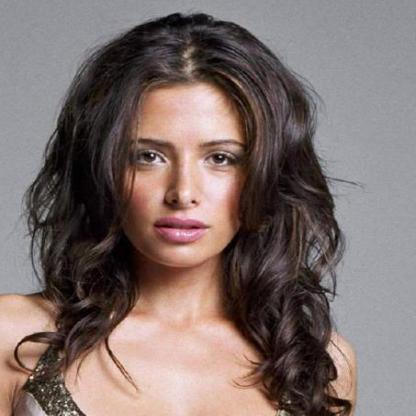long-hair: (19, 268, 354, 359)
